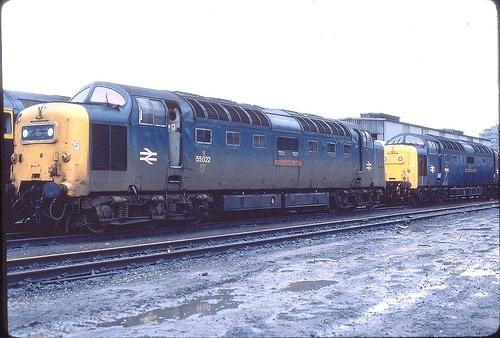train: (11, 82, 385, 234), (385, 133, 500, 203)
